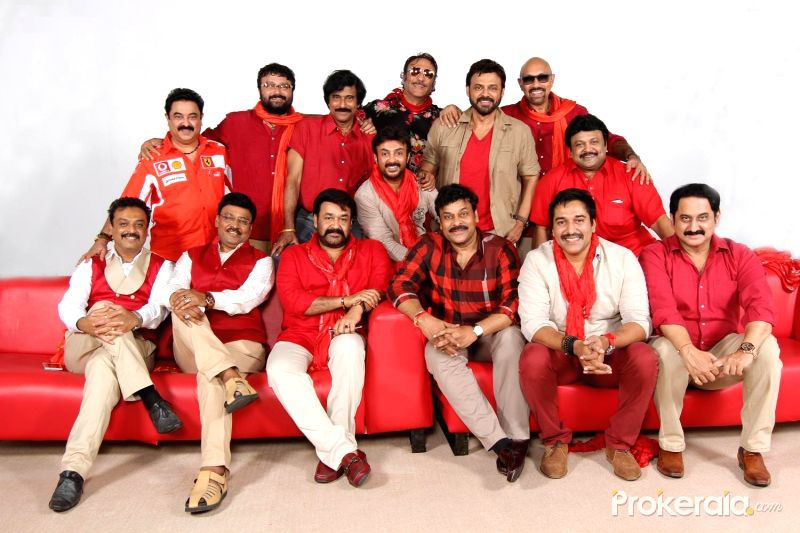bad: (549, 209, 592, 252), (674, 204, 717, 247), (317, 206, 353, 242), (165, 106, 201, 142), (373, 142, 409, 178), (465, 78, 501, 114), (437, 206, 473, 242), (113, 214, 149, 250), (569, 130, 605, 166), (217, 210, 253, 246), (401, 62, 437, 98), (517, 70, 553, 106), (257, 74, 293, 110), (325, 86, 361, 122)
